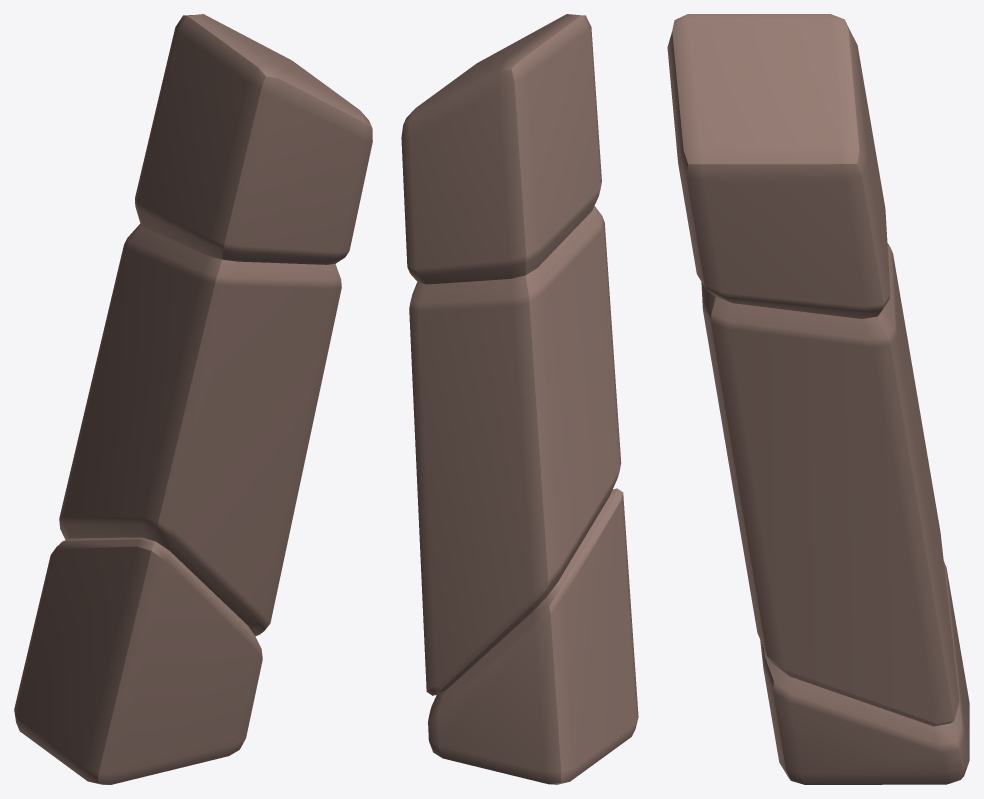
File: Cement_column.fbx
3 renders of one model, left to right at view 1: azimuth 30°, elevation 25°; view 2: azimuth 150°, elevation 25°; view 3: azimuth 270°, elevation 25°, orthographic. The views are drawn at different scales.
Visible parts, largest first — view 1: pasted__polySurface336; view 2: pasted__polySurface336; view 3: pasted__polySurface336.
Boxes of the visible parts, x1,y1,x2,y2 form: pasted__polySurface336: (14,14,372,784); pasted__polySurface336: (401,14,638,784); pasted__polySurface336: (667,14,969,784).
Size of the model in its own units: 0.3202 by 0.9469 by 0.3414.
